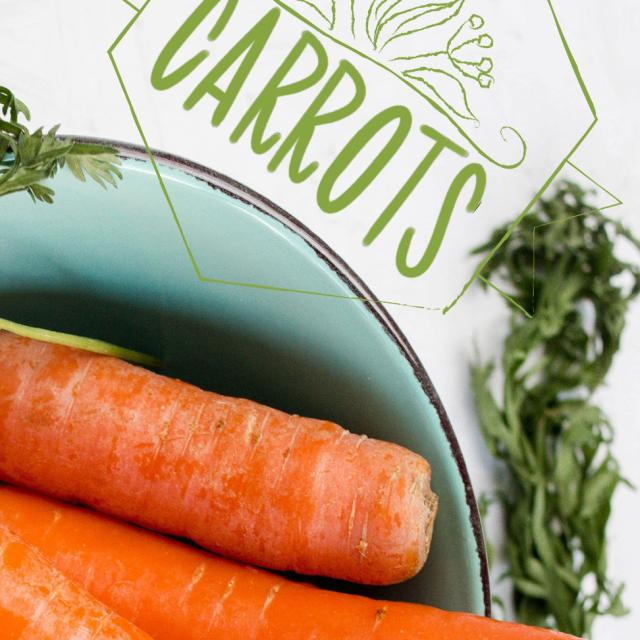Fresh_Carrot: (1, 327, 418, 567)
